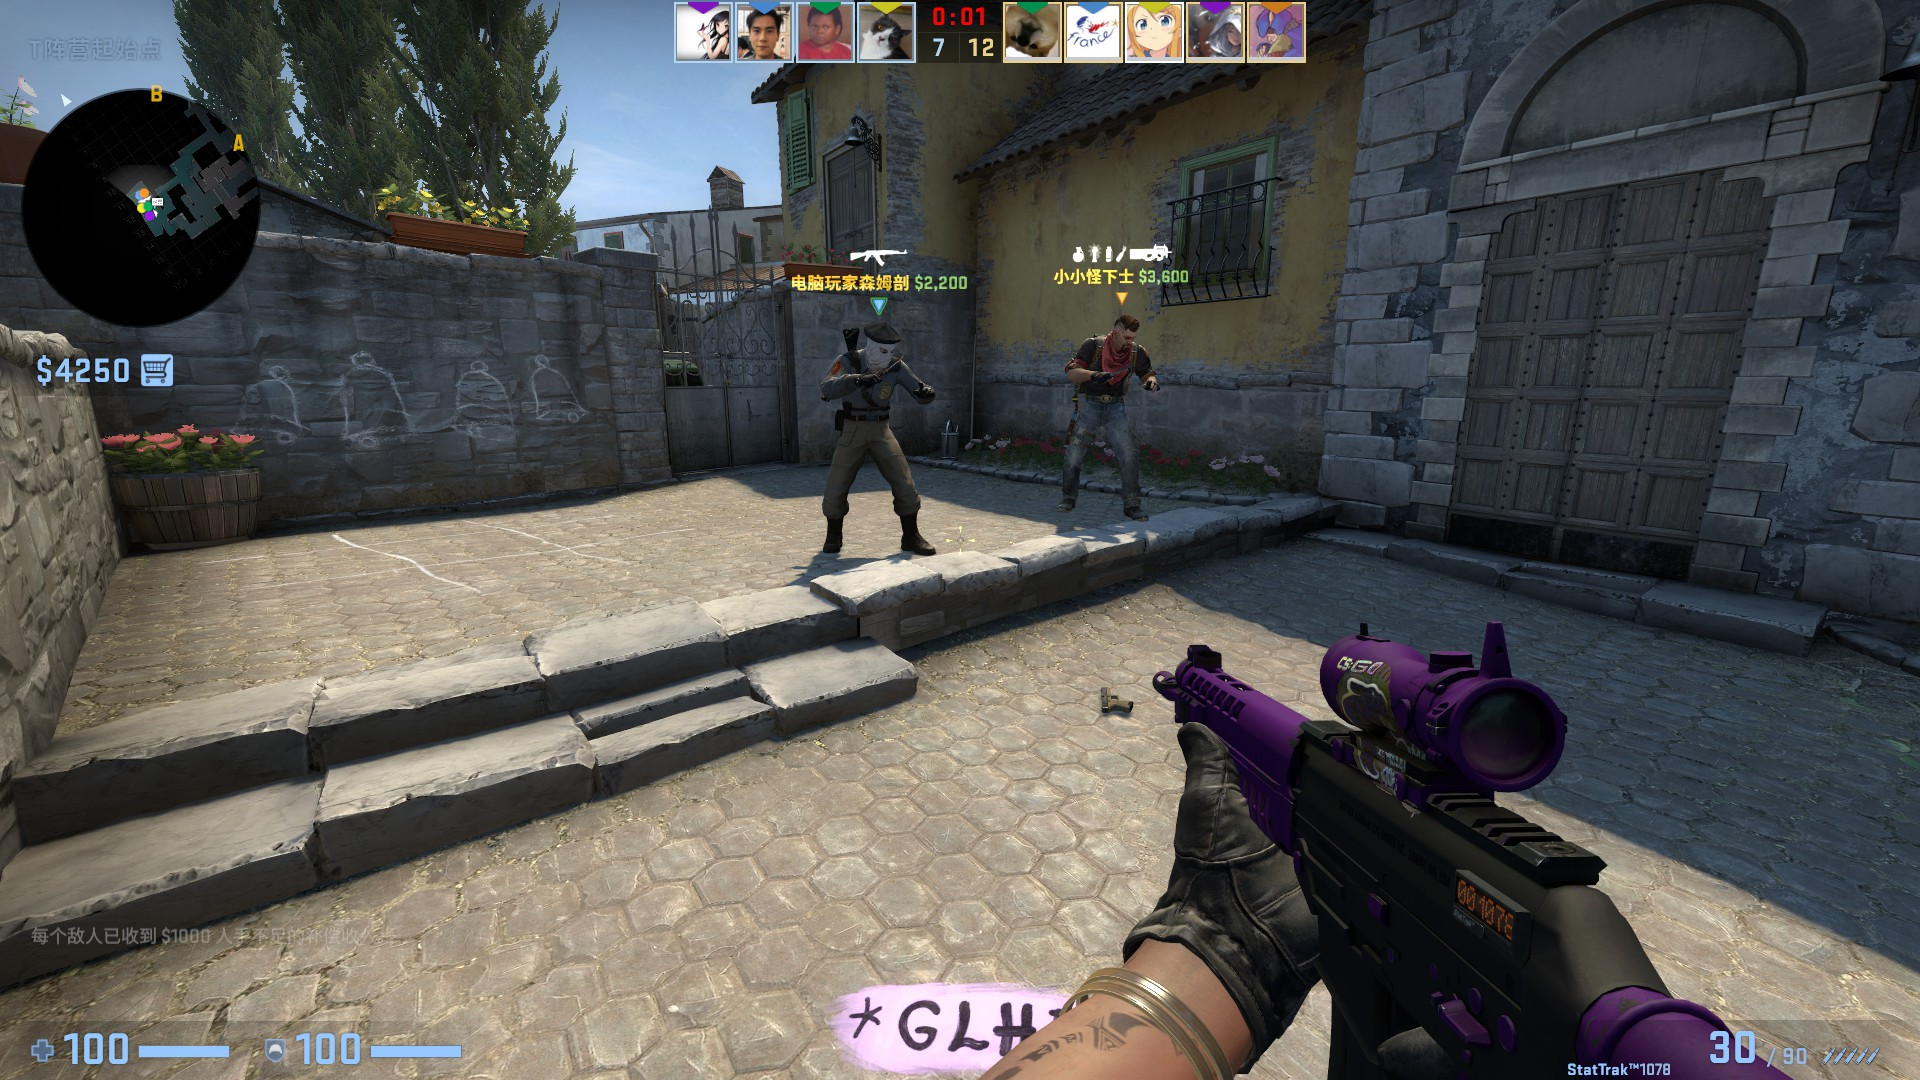head: (860, 321, 902, 369), (1110, 313, 1141, 352)
